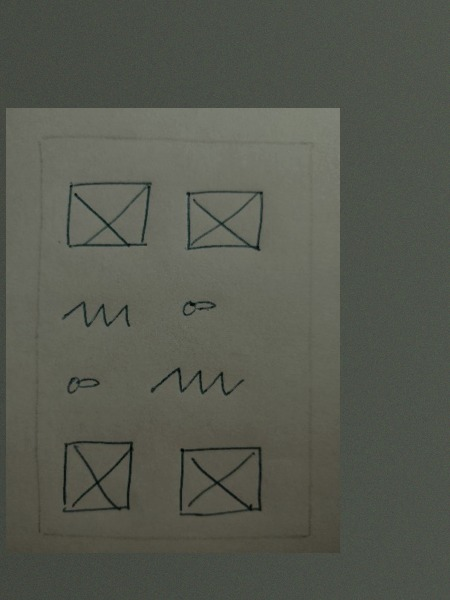image: (171, 438, 268, 521), (60, 174, 161, 253), (179, 182, 272, 259), (56, 436, 140, 519)
switch: (169, 292, 228, 323), (57, 371, 115, 401)
text: (146, 359, 253, 405), (55, 295, 140, 339)
